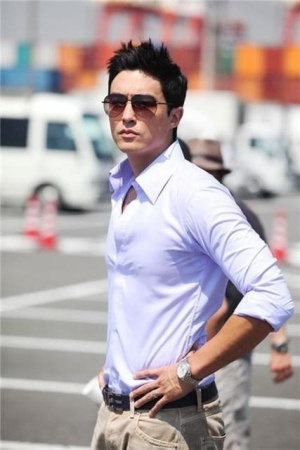male: (100, 41, 189, 171)
